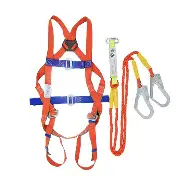safety belt: (32, 13, 167, 170)
